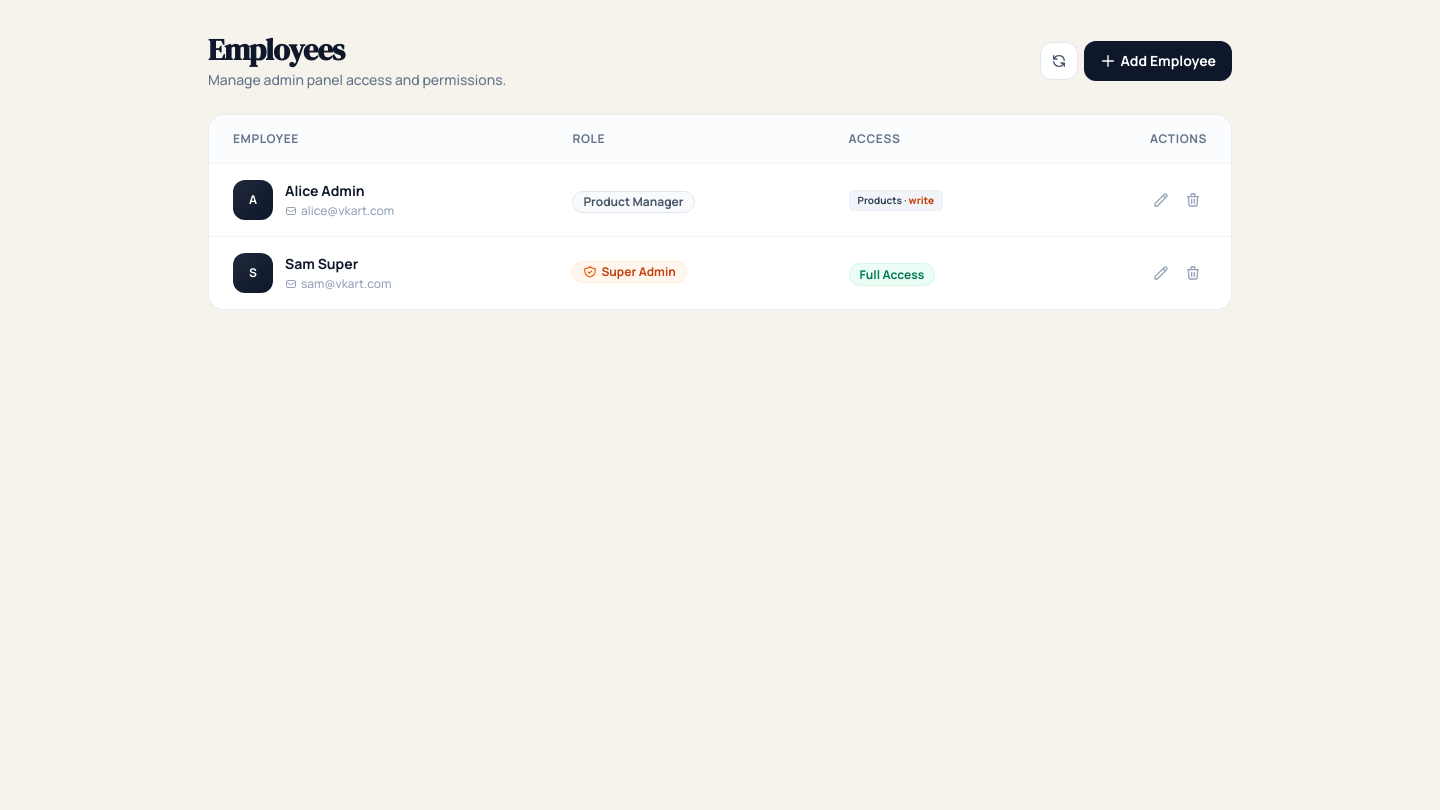
Test: AdminEmployees Component › edits an existing employee's role and permissions
Check: the table is shown, box [209,115,1231,309]
Click the button titled "manage access" in the row of "Alice Admin": x=1161, y=200 [1147,186,1175,214]
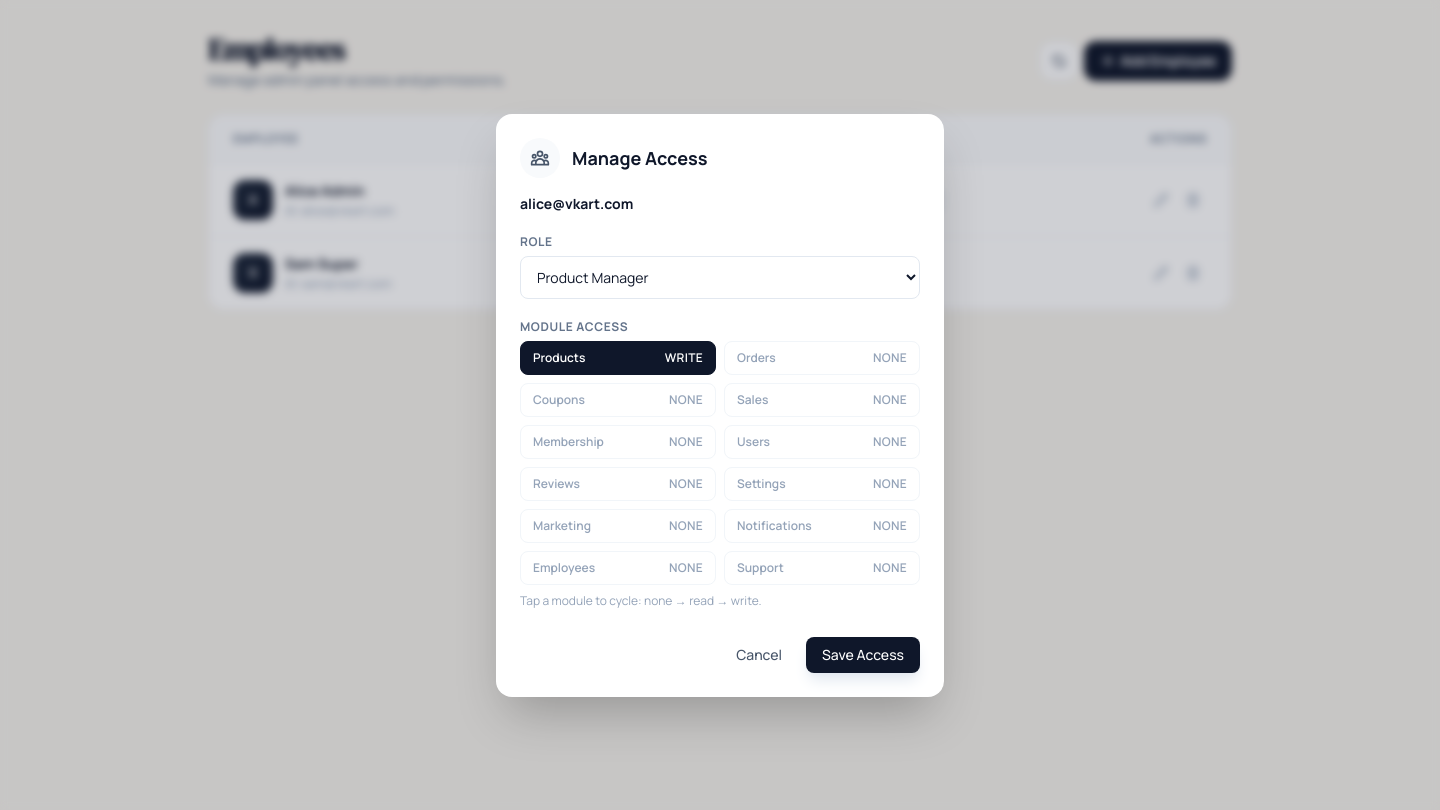
Check: the heading "Manage Access" is shown, box [572,144,708,172]
Click the button "Save Access": x=863, y=654 [806,636,920,672]
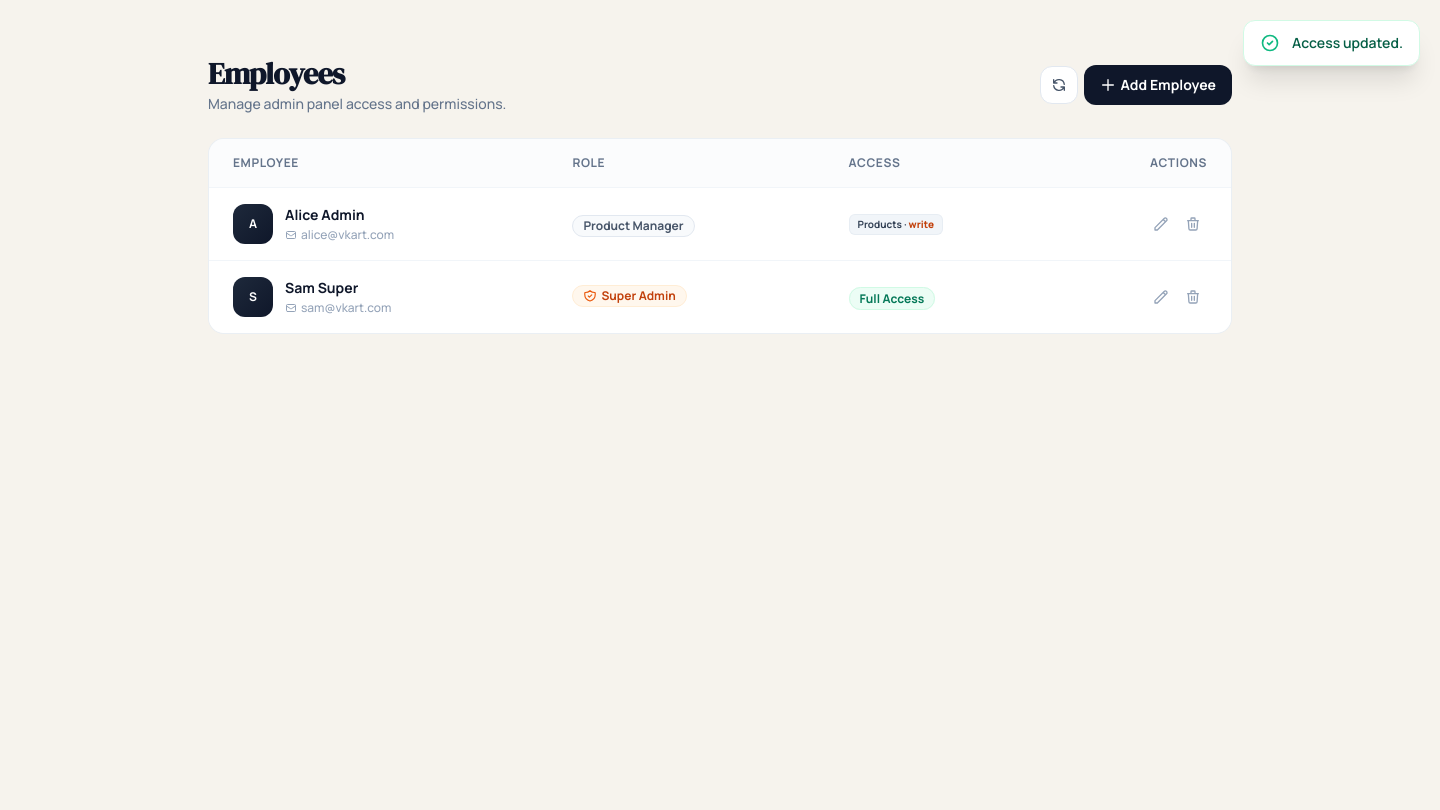
Check: the text "Access updated." is shown, box [1292,33,1403,53]
